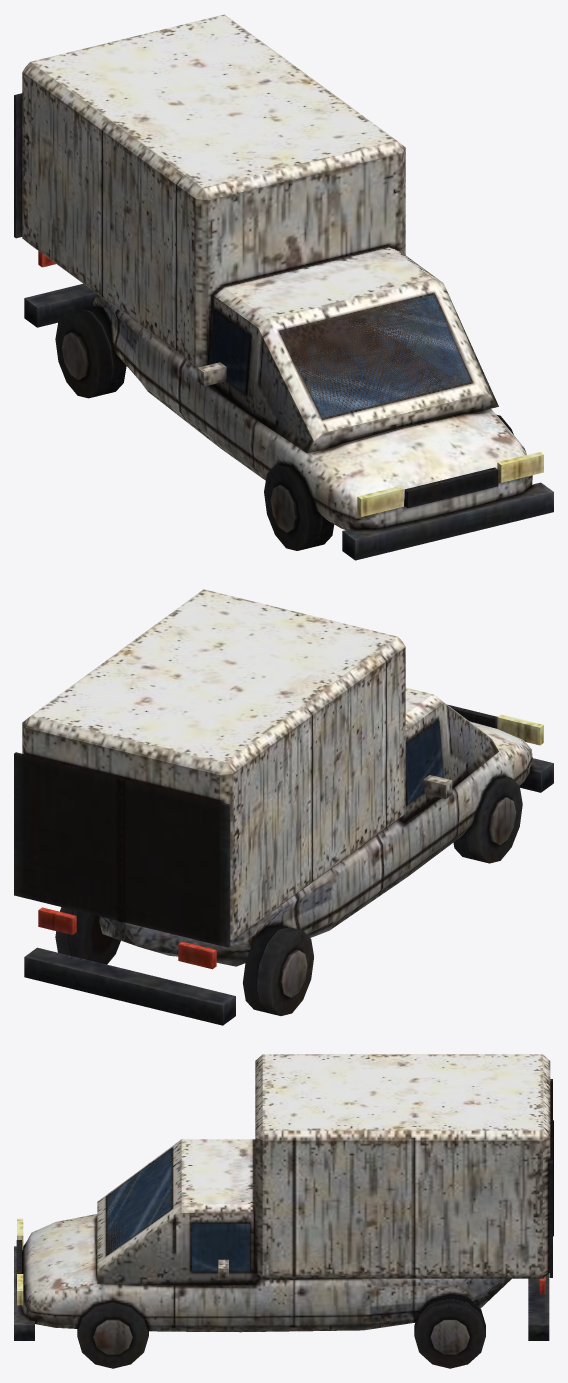
Rendered from car_furgao.glb.
3 renders of one model, top to bottom at view 1: azimuth 30°, elevation 25°; view 2: azimuth 150°, elevation 25°; view 3: azimuth 270°, elevation 25°, orthographic. The views are drawn at different scales.
Visible parts, largest first — view 1: car_furgao; view 2: car_furgao; view 3: car_furgao.
Part boxes in pixels (box(x1,y1,x2,y2)): car_furgao: box(14, 14, 553, 560); car_furgao: box(14, 589, 553, 1025); car_furgao: box(14, 1054, 553, 1368).
Bounding box in the file's own units: 2.2 × 2.45 × 5.12.
8 materials, 8 textured.
